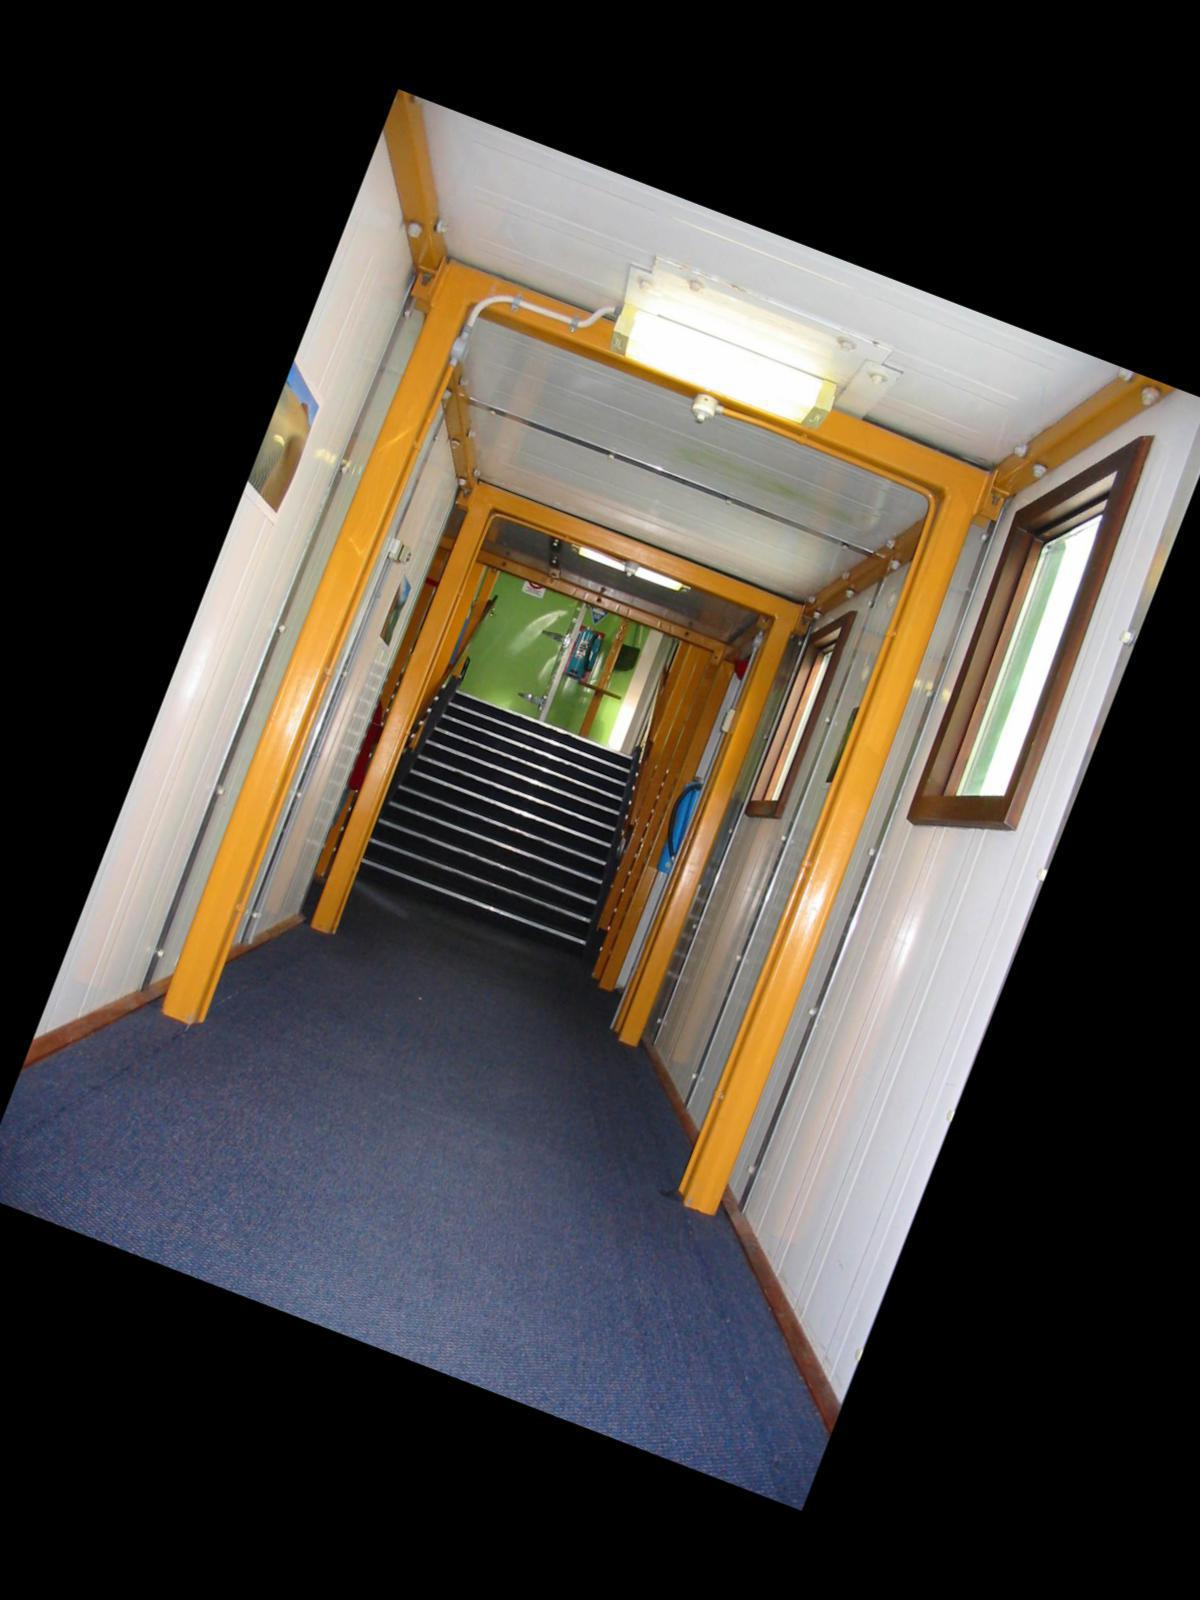Escaleras: (364, 674, 661, 946)
